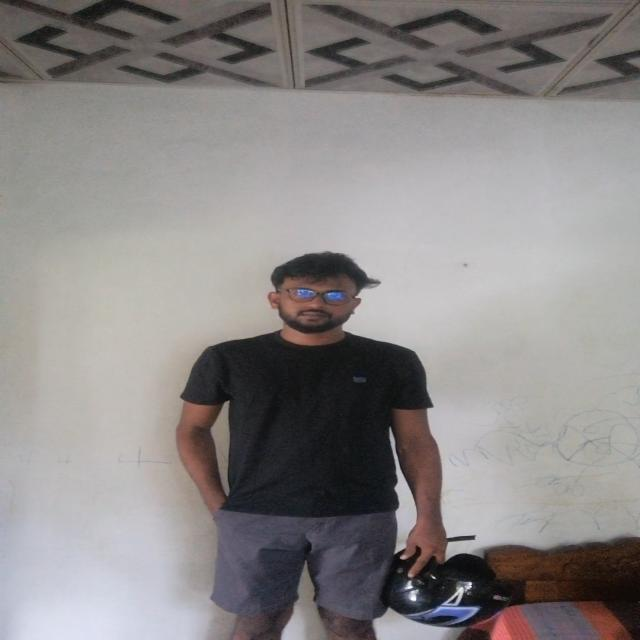Person: (173, 257, 457, 640)
